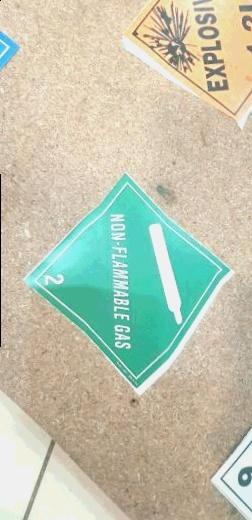explosive: (119, 1, 252, 114)
non-flammable-gas: (22, 171, 239, 393)
